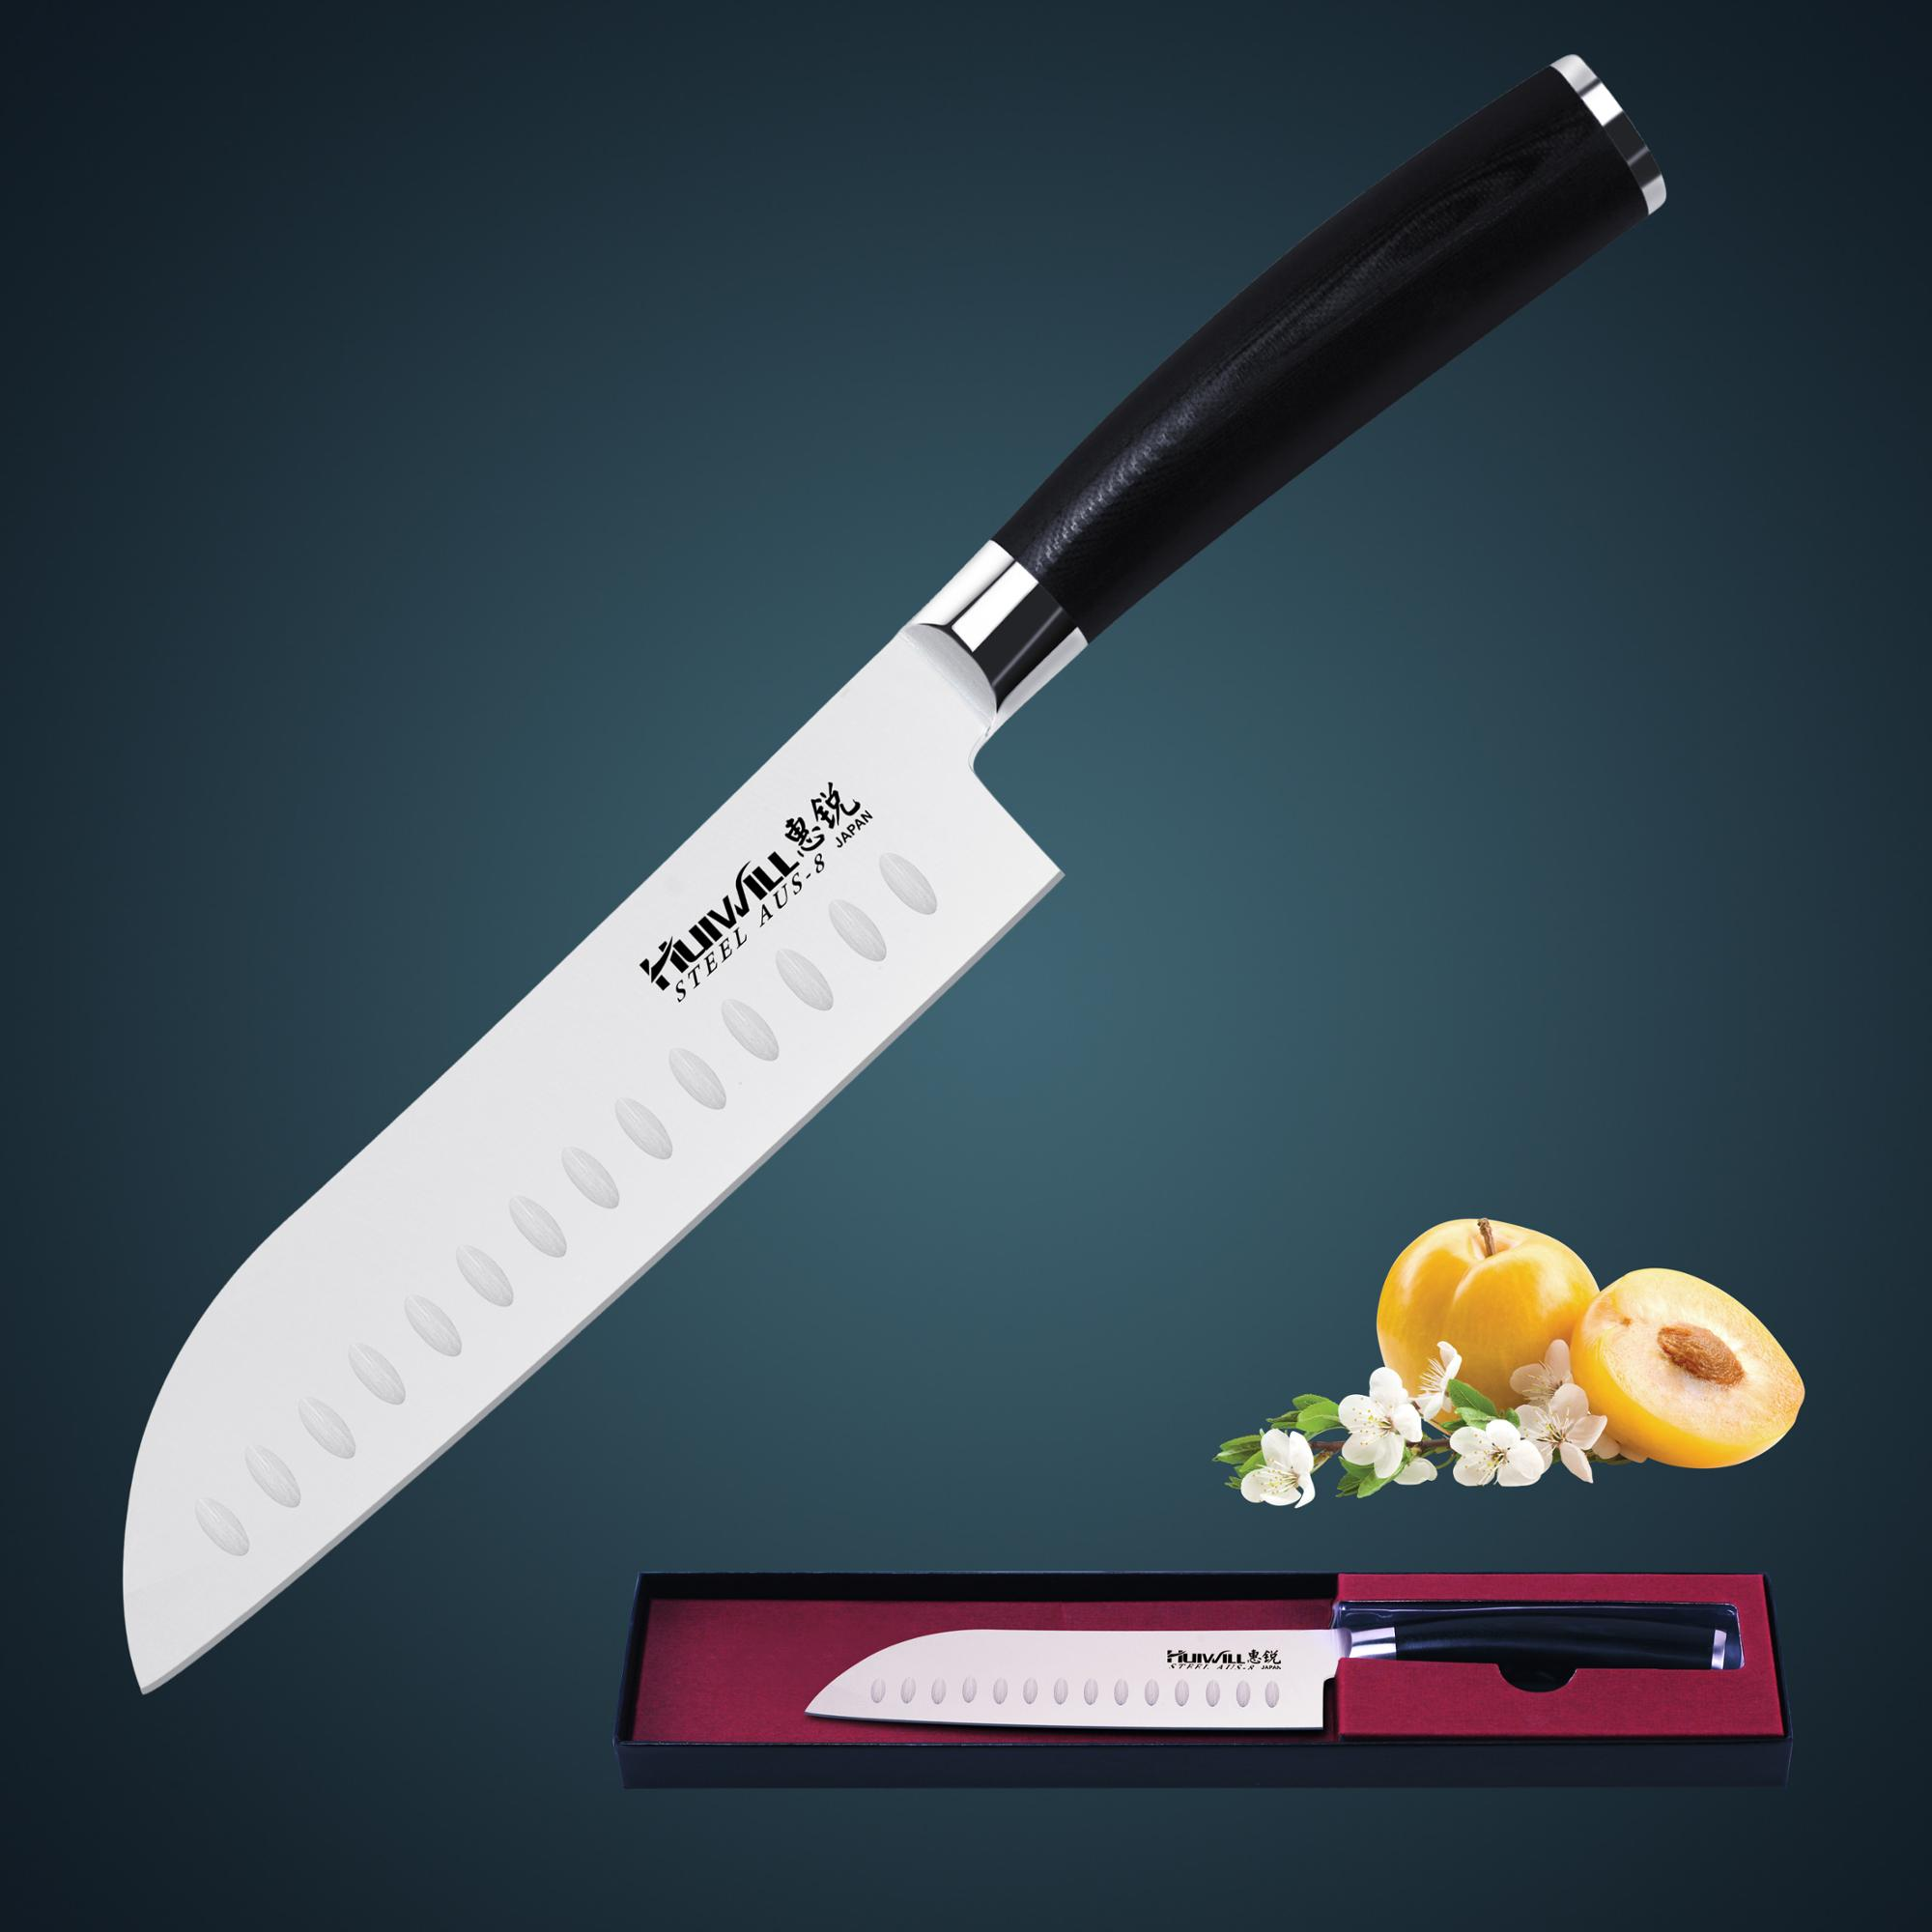knief: (16, 27, 1640, 1553)
